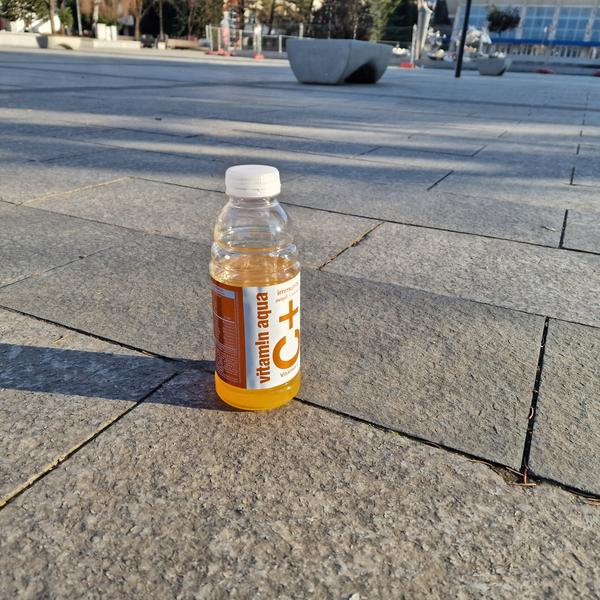plastic_bottle: (208, 163, 302, 413)
